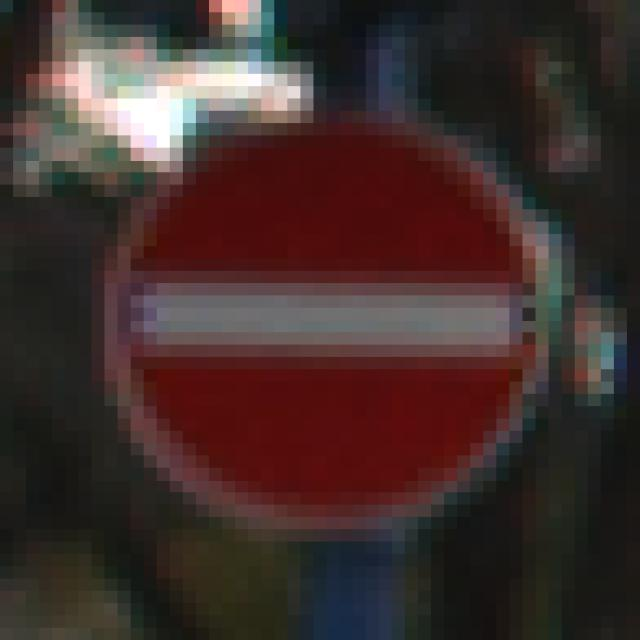No Entry: (66, 75, 563, 579)
